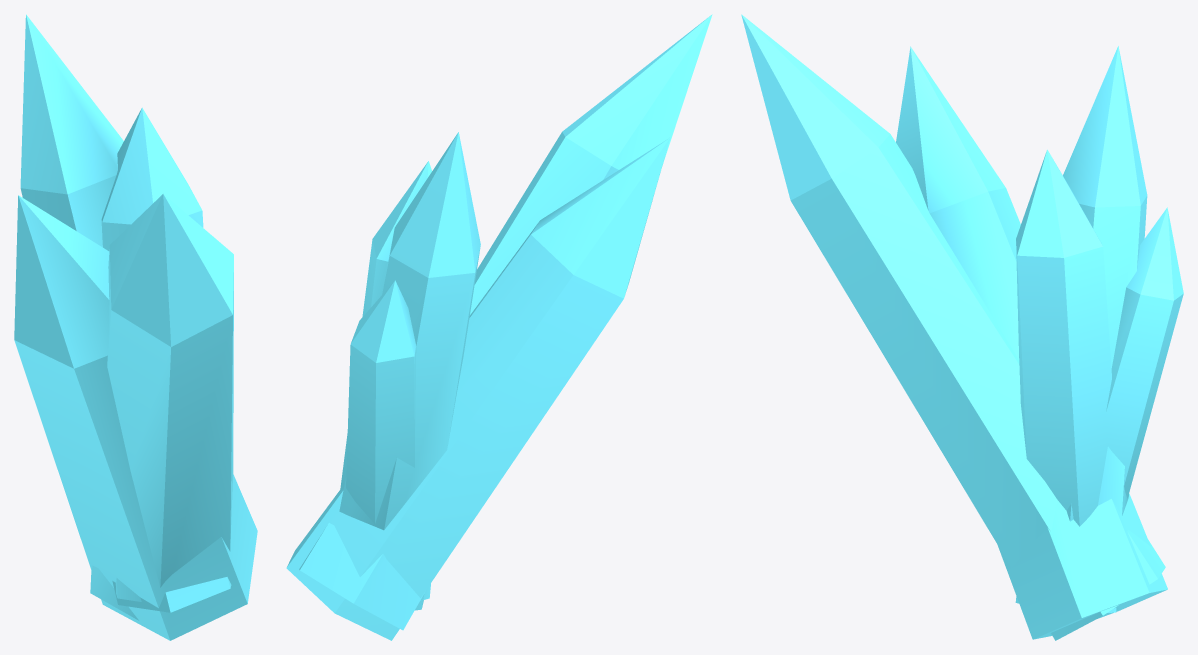
File: obj_deco_cristales.glb
3 renders of one model, left to right at view 1: azimuth 30°, elevation 25°; view 2: azimuth 150°, elevation 25°; view 3: azimuth 270°, elevation 25°, orthographic. The views are drawn at different scales.
Parts seen in each view (by area): view 1: propforge-libre-deco_cristales; view 2: propforge-libre-deco_cristales; view 3: propforge-libre-deco_cristales.
Part boxes in pixels (x1,y1,x2,y2): propforge-libre-deco_cristales: [14, 14, 257, 640]; propforge-libre-deco_cristales: [286, 14, 712, 640]; propforge-libre-deco_cristales: [741, 14, 1183, 640].
Size of the model in its own units: 0.2608 by 0.461 by 0.3391.
